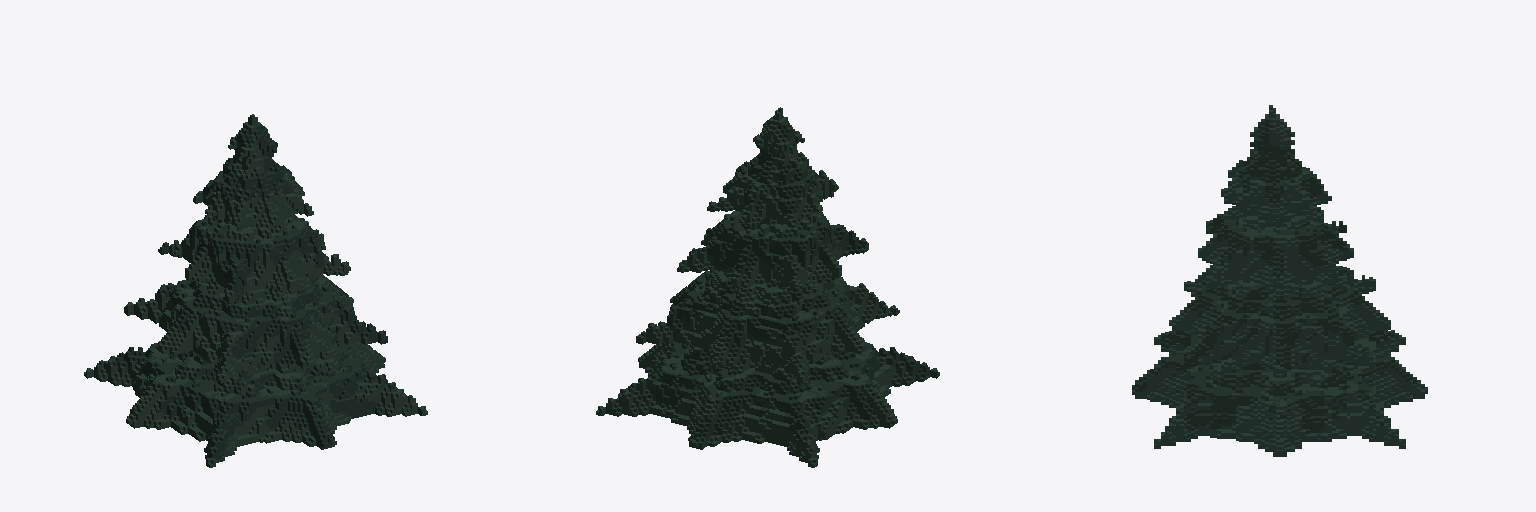
3 views of the same model, side by side, from view 1: azimuth 30°, elevation 25°; view 2: azimuth 150°, elevation 25°; view 3: azimuth 270°, elevation 25° (orthographic).
Visible parts, largest first — view 1: object 1; view 2: object 1; view 3: object 1.
Boxes of the visible parts, x1,y1,x2,y2 form: object 1: [84, 114, 427, 467]; object 1: [596, 107, 939, 467]; object 1: [1132, 105, 1427, 456].
Size of the model in its own units: 8 by 8.7 by 8.
1 materials, 1 textured.